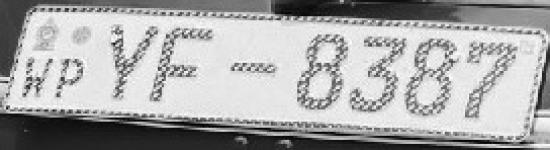-: (226, 54, 284, 84)
3: (350, 28, 407, 118)
7: (463, 31, 521, 122)
8: (290, 27, 350, 117), (409, 30, 463, 123)
F: (156, 21, 218, 108)
P: (53, 54, 89, 103)
W: (22, 53, 55, 102)
Y: (102, 20, 158, 101)
